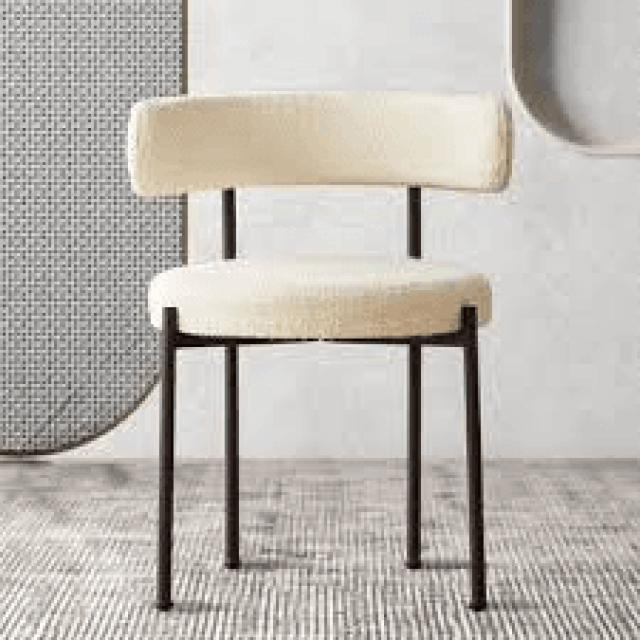chair: (124, 83, 516, 621), (129, 95, 490, 329)
